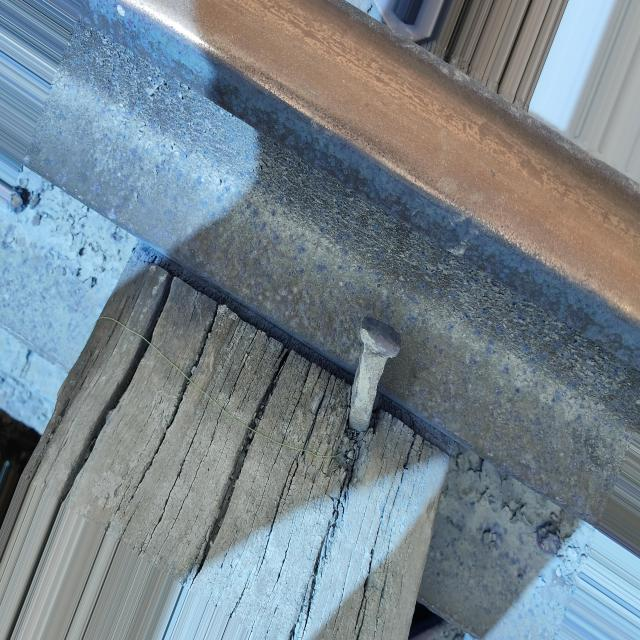Good Fasteners: (330, 304, 405, 460)
